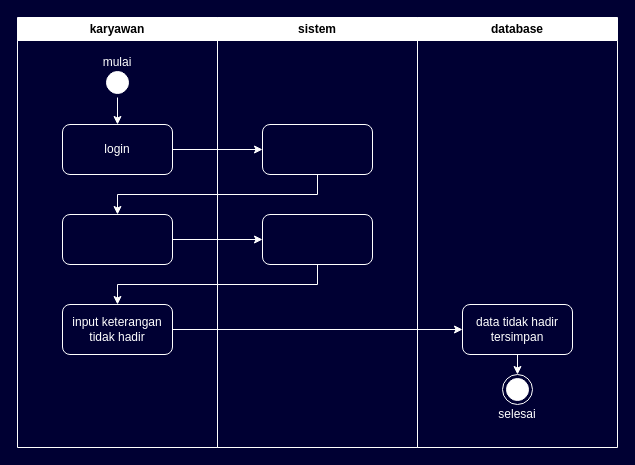
The diagram is 635 pixels wide and 465 high, and some of its shapes have lost their labels. The centre of each missing label's shape, as x and y in pixels:
memilih opsi "tidak hadir": [117,239]
tampil halaman pengajuan izin / sakit: [317,239]
tampil menu utama karyawan: [317,149]
